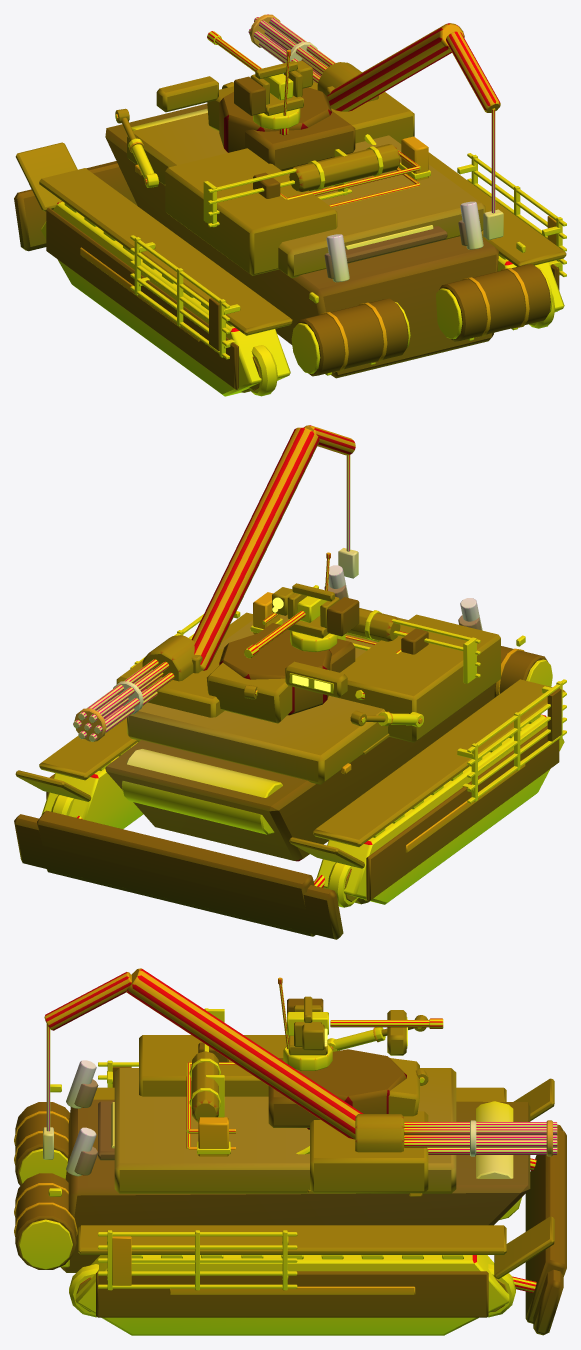
File: SalvageHauler.fbx
The picture shows the model from 3 angles, top to bottom: view 1: azimuth 30°, elevation 25°; view 2: azimuth 150°, elevation 25°; view 3: azimuth 270°, elevation 25°; orthographic projection. The views are drawn at different scales.
Parts seen in each view (by area): view 1: SalvageHauler_SalvageHauler_LightArmor, SalvageHauler_SalvageHauler_PrimaryArmor, SalvageHauler_SalvageHauler_Gunmetal, SalvageHauler_SalvageHauler_Warning, SalvageHauler_SalvageHauler_Tread, SalvageHaulerTurret_BaseShell, SalvageHauler_SalvageHauler_WheelRim; view 2: SalvageHauler_SalvageHauler_LightArmor, SalvageHauler_SalvageHauler_PrimaryArmor, SalvageHauler_SalvageHauler_Gunmetal, SalvageHauler_SalvageHauler_Warning, SalvageHauler_SalvageHauler_Tread, SalvageHaulerTurret_BaseShell, SalvageHauler_SalvageHauler_WheelRim; view 3: SalvageHauler_SalvageHauler_LightArmor, SalvageHauler_SalvageHauler_PrimaryArmor, SalvageHauler_SalvageHauler_Gunmetal, SalvageHauler_SalvageHauler_Warning, SalvageHauler_SalvageHauler_Tread, SalvageHaulerTurret_BaseShell, SalvageHauler_SalvageHauler_WheelRim.
Boxes of the visible parts, box(x1,y1,x2,y2) form: SalvageHauler_SalvageHauler_LightArmor: box(15, 60, 566, 335); SalvageHauler_SalvageHauler_PrimaryArmor: box(14, 76, 559, 389); SalvageHauler_SalvageHauler_Gunmetal: box(130, 14, 566, 396); SalvageHauler_SalvageHauler_Warning: box(80, 14, 556, 372); SalvageHauler_SalvageHauler_Tread: box(41, 114, 564, 396); SalvageHaulerTurret_BaseShell: box(219, 87, 331, 152); SalvageHauler_SalvageHauler_WheelRim: box(115, 82, 260, 392); SalvageHauler_SalvageHauler_LightArmor: box(15, 583, 565, 868); SalvageHauler_SalvageHauler_PrimaryArmor: box(14, 597, 561, 939); SalvageHauler_SalvageHauler_Gunmetal: box(51, 455, 566, 907); SalvageHauler_SalvageHauler_Warning: box(74, 425, 525, 852); SalvageHauler_SalvageHauler_Tread: box(41, 610, 564, 904); SalvageHaulerTurret_BaseShell: box(219, 632, 331, 715); SalvageHauler_SalvageHauler_WheelRim: box(244, 685, 385, 904); SalvageHauler_SalvageHauler_LightArmor: box(74, 996, 554, 1279); SalvageHauler_SalvageHauler_PrimaryArmor: box(15, 998, 566, 1335); SalvageHauler_SalvageHauler_Gunmetal: box(19, 1008, 557, 1317); SalvageHauler_SalvageHauler_Warning: box(14, 968, 552, 1294); SalvageHauler_SalvageHauler_Tread: box(75, 1027, 509, 1335); SalvageHaulerTurret_BaseShell: box(296, 1049, 406, 1129); SalvageHauler_SalvageHauler_WheelRim: box(76, 1015, 508, 1311).
Size of the model in its own units: 294 by 259 by 397.
